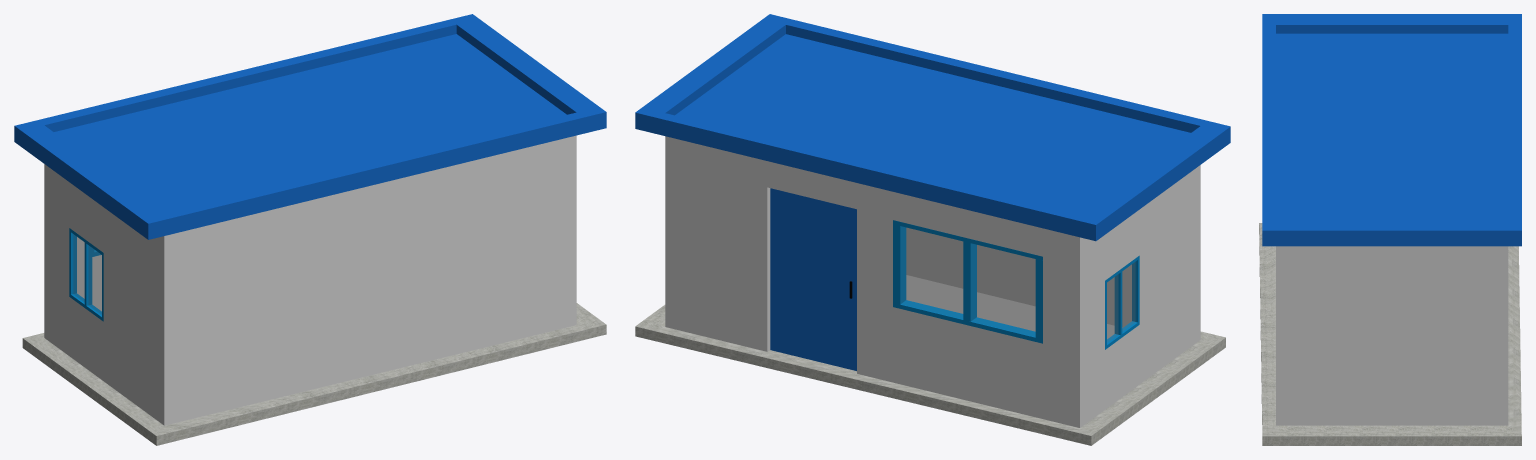
File: fangzi.FBX
3 renders of one model, left to right at view 1: azimuth 30°, elevation 25°; view 2: azimuth 150°, elevation 25°; view 3: azimuth 270°, elevation 25°, orthographic. The views are drawn at different scales.
Parts seen in each view (by area): view 1: 对象101, 对象102, 对象103; view 2: 对象101, 对象104, 对象099, 对象102, 对象103; view 3: 对象101.
Boxes of the visible parts, x1,y1,x2,y2 form: 对象101: [14, 14, 606, 445]; 对象102: [69, 228, 103, 321]; 对象103: [73, 234, 101, 314]; 对象101: [635, 14, 1230, 445]; 对象104: [770, 188, 856, 370]; 对象099: [893, 220, 1042, 343]; 对象102: [1105, 255, 1139, 349]; 对象103: [1107, 262, 1135, 342]; 对象101: [1259, 14, 1521, 445].
Size of the model in its own units: 9482 by 4399 by 4862.
7 materials, 2 textured.
